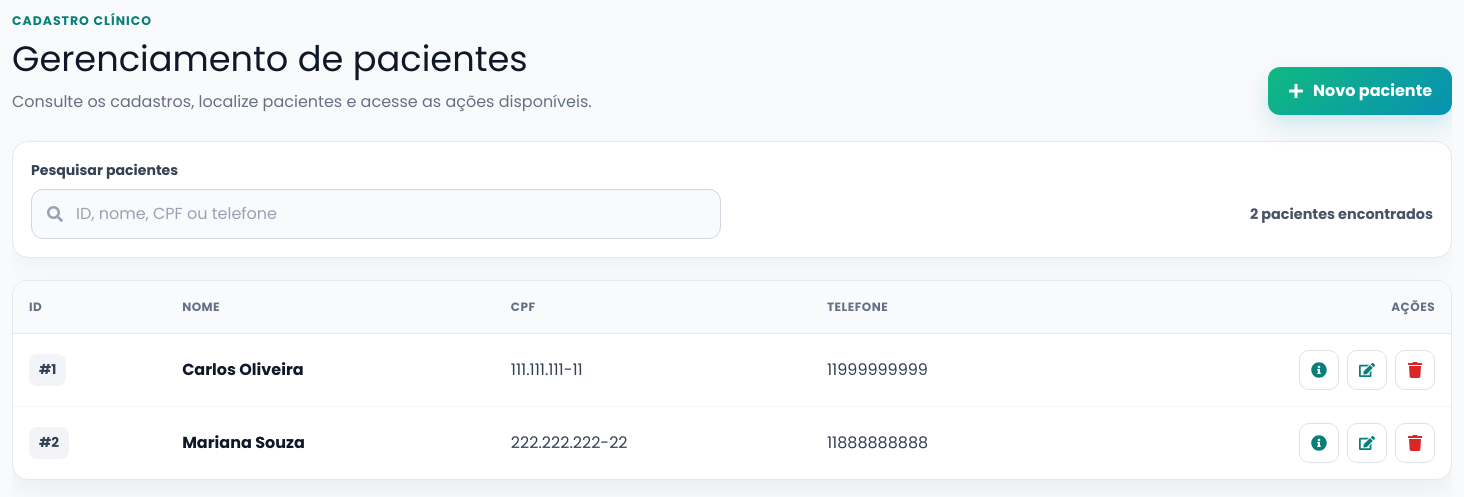
Scenario: Patient workspace › filters by CPF as part of the patient search contract
Type "222.222" into the search field labelled "Pesquisar pacientes" at coordinates (376, 214), box x1=31 y1=189 x2=721 y2=239
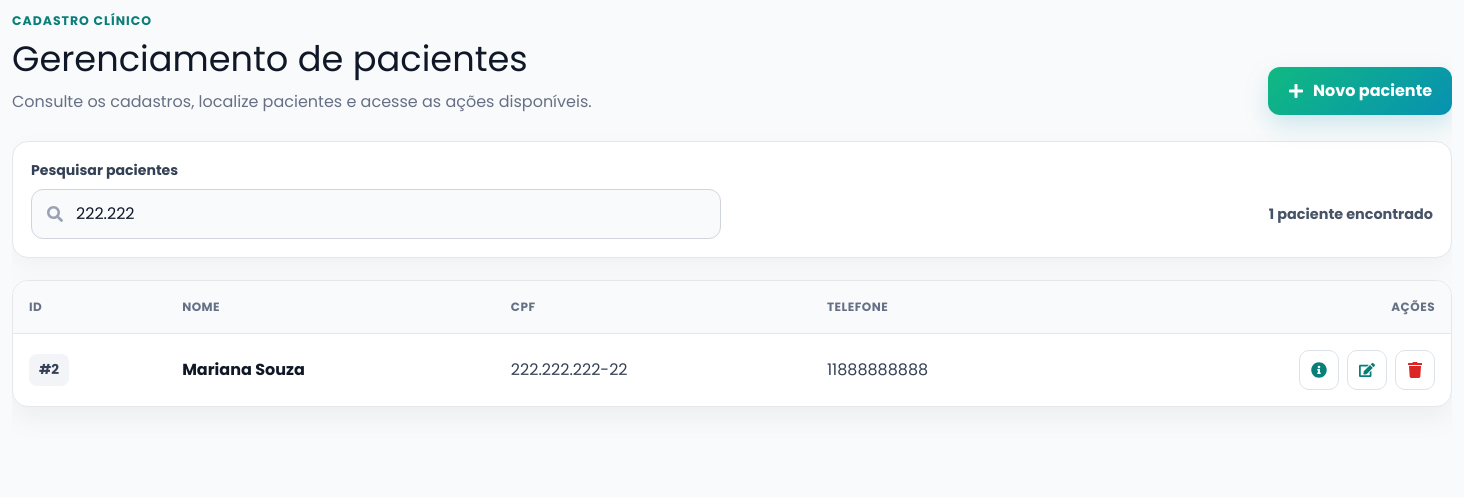
Check: the text "Mariana Souza" is shown, box x1=166 y1=333 x2=495 y2=406
Check: the text "Carlos Oliveira" is gone
